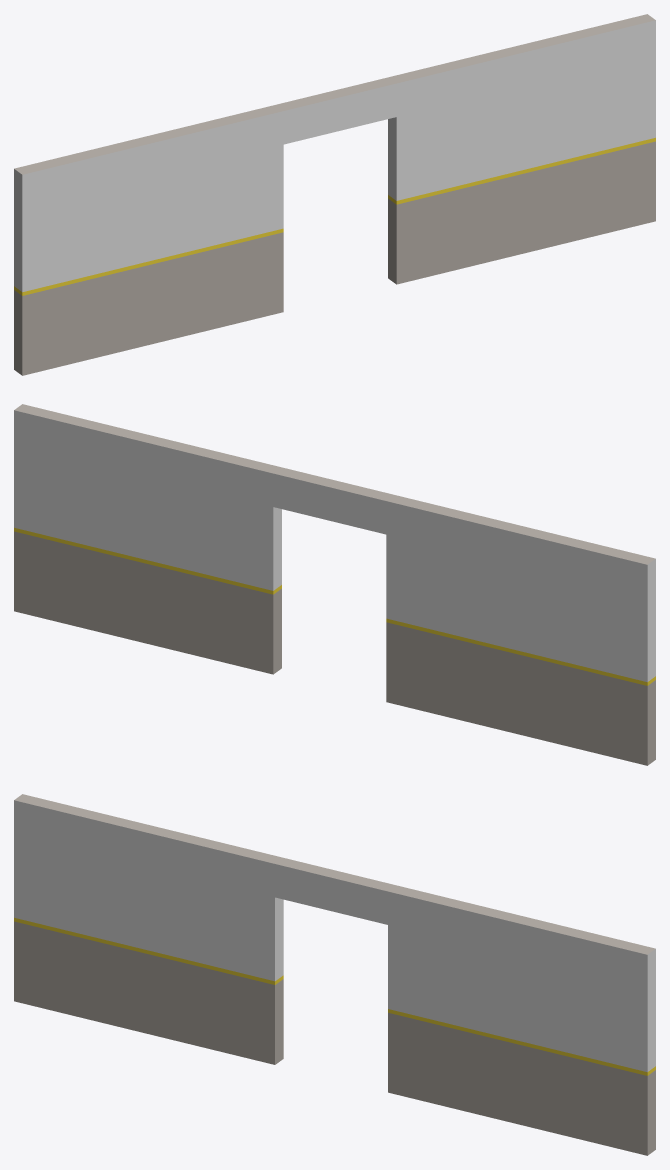
Rendered from CvsRR_Wall_Long_Entrance.fbx.
The picture shows the model from 3 angles, top to bottom: view 1: azimuth 30°, elevation 25°; view 2: azimuth 150°, elevation 25°; view 3: azimuth 330°, elevation 25°; orthographic projection.
Visible parts, largest first — view 1: CvsRR_Wall_Long_Entrance; view 2: CvsRR_Wall_Long_Entrance; view 3: CvsRR_Wall_Long_Entrance.
Part boxes in pixels (x1,y1,x2,y2): CvsRR_Wall_Long_Entrance: (14, 14, 655, 375); CvsRR_Wall_Long_Entrance: (14, 404, 655, 765); CvsRR_Wall_Long_Entrance: (14, 794, 655, 1155).
Bounding box in the file's own units: 15 × 4.55 × 0.3469.
